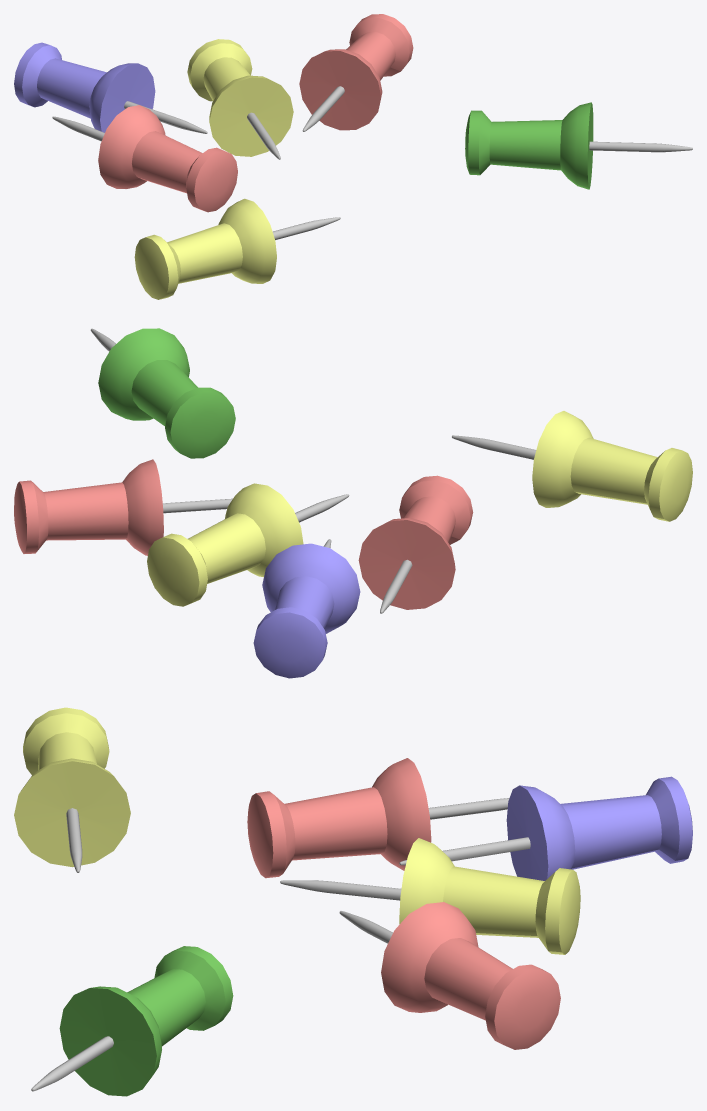
Rendered from 긴압정.fbx.
3 renders of one model, top to bottom at view 1: azimuth 30°, elevation 25°; view 2: azimuth 150°, elevation 25°; view 3: azimuth 270°, elevation 25°, orthographic. The views are drawn at different scales.
Visible parts, largest first — view 1: pin_plastic.002, pin_plastic.005, pin_plastic.001, pin_plastic.004, pin_plastic.003, pin_plastic; view 2: pin_plastic.005, pin_plastic.003, pin_plastic.004, pin_plastic.002, pin_plastic, pin_plastic.001; view 3: pin_plastic.001, pin_plastic.003, pin_plastic.002, pin_plastic, pin_plastic.005, pin_plastic.004.
Boxes of the visible parts, <box> form: pin_plastic.002: <box>52,105,237,212</box>; pin_plastic.005: <box>134,198,340,299</box>; pin_plastic.001: <box>299,14,413,131</box>; pin_plastic.004: <box>187,39,293,159</box>; pin_plastic.003: <box>465,102,692,189</box>; pin_plastic: <box>14,42,207,133</box>; pin_plastic.005: <box>452,411,692,521</box>; pin_plastic.003: <box>90,328,235,458</box>; pin_plastic.004: <box>147,483,349,606</box>; pin_plastic.002: <box>358,475,473,613</box>; pin_plastic: <box>253,539,360,678</box>; pin_plastic.001: <box>14,459,232,555</box>; pin_plastic.001: <box>339,902,560,1049</box>; pin_plastic.003: <box>31,946,233,1096</box>; pin_plastic.002: <box>247,758,509,878</box>; pin_plastic: <box>399,776,692,880</box>; pin_plastic.005: <box>14,707,130,872</box>; pin_plastic.004: <box>280,838,580,954</box>.
Bounding box in the file's own units: 650 × 92.73 × 538.
